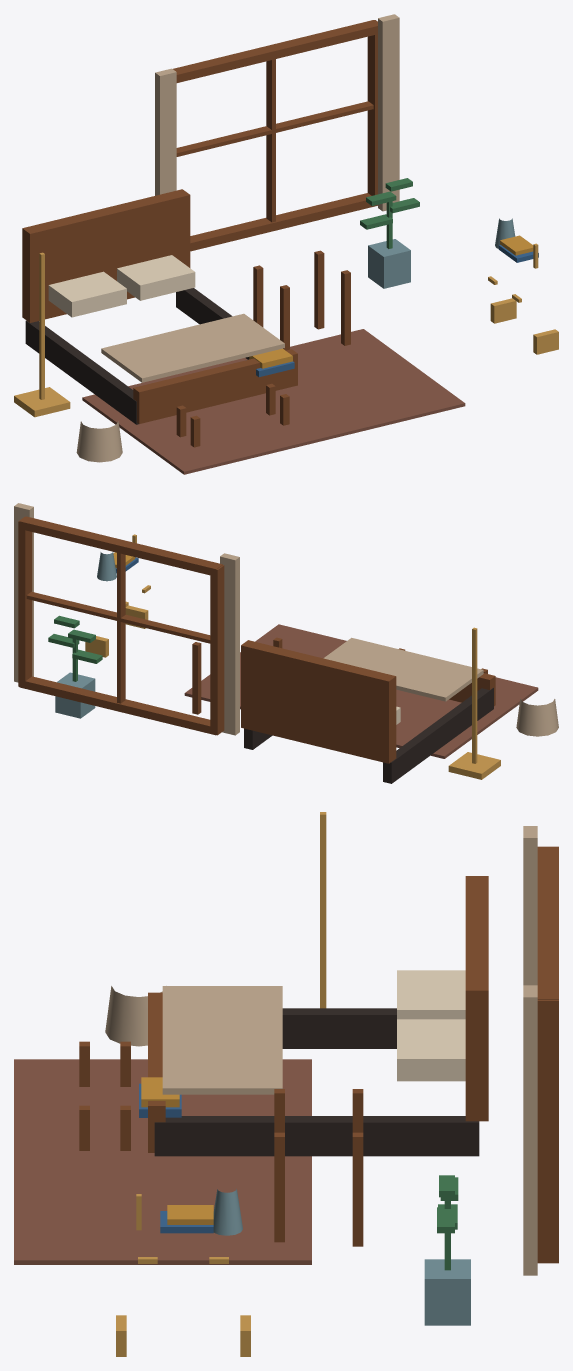
File: sunset_room_static.gltf
3 renders of one model, top to bottom at view 1: azimuth 30°, elevation 25°; view 2: azimuth 150°, elevation 25°; view 3: azimuth 270°, elevation 25°, orthographic. The views are drawn at different scales.
Parts seen in each view (by area): view 1: SunsetRoomStatic; view 2: SunsetRoomStatic; view 3: SunsetRoomStatic.
Boxes of the visible parts, box(x1,y1,x2,y2) form: SunsetRoomStatic: box(14, 14, 558, 474); SunsetRoomStatic: box(14, 503, 558, 783); SunsetRoomStatic: box(14, 812, 558, 1356).
Bounding box in the file's own units: 8.97 × 4.28 × 6.13.
